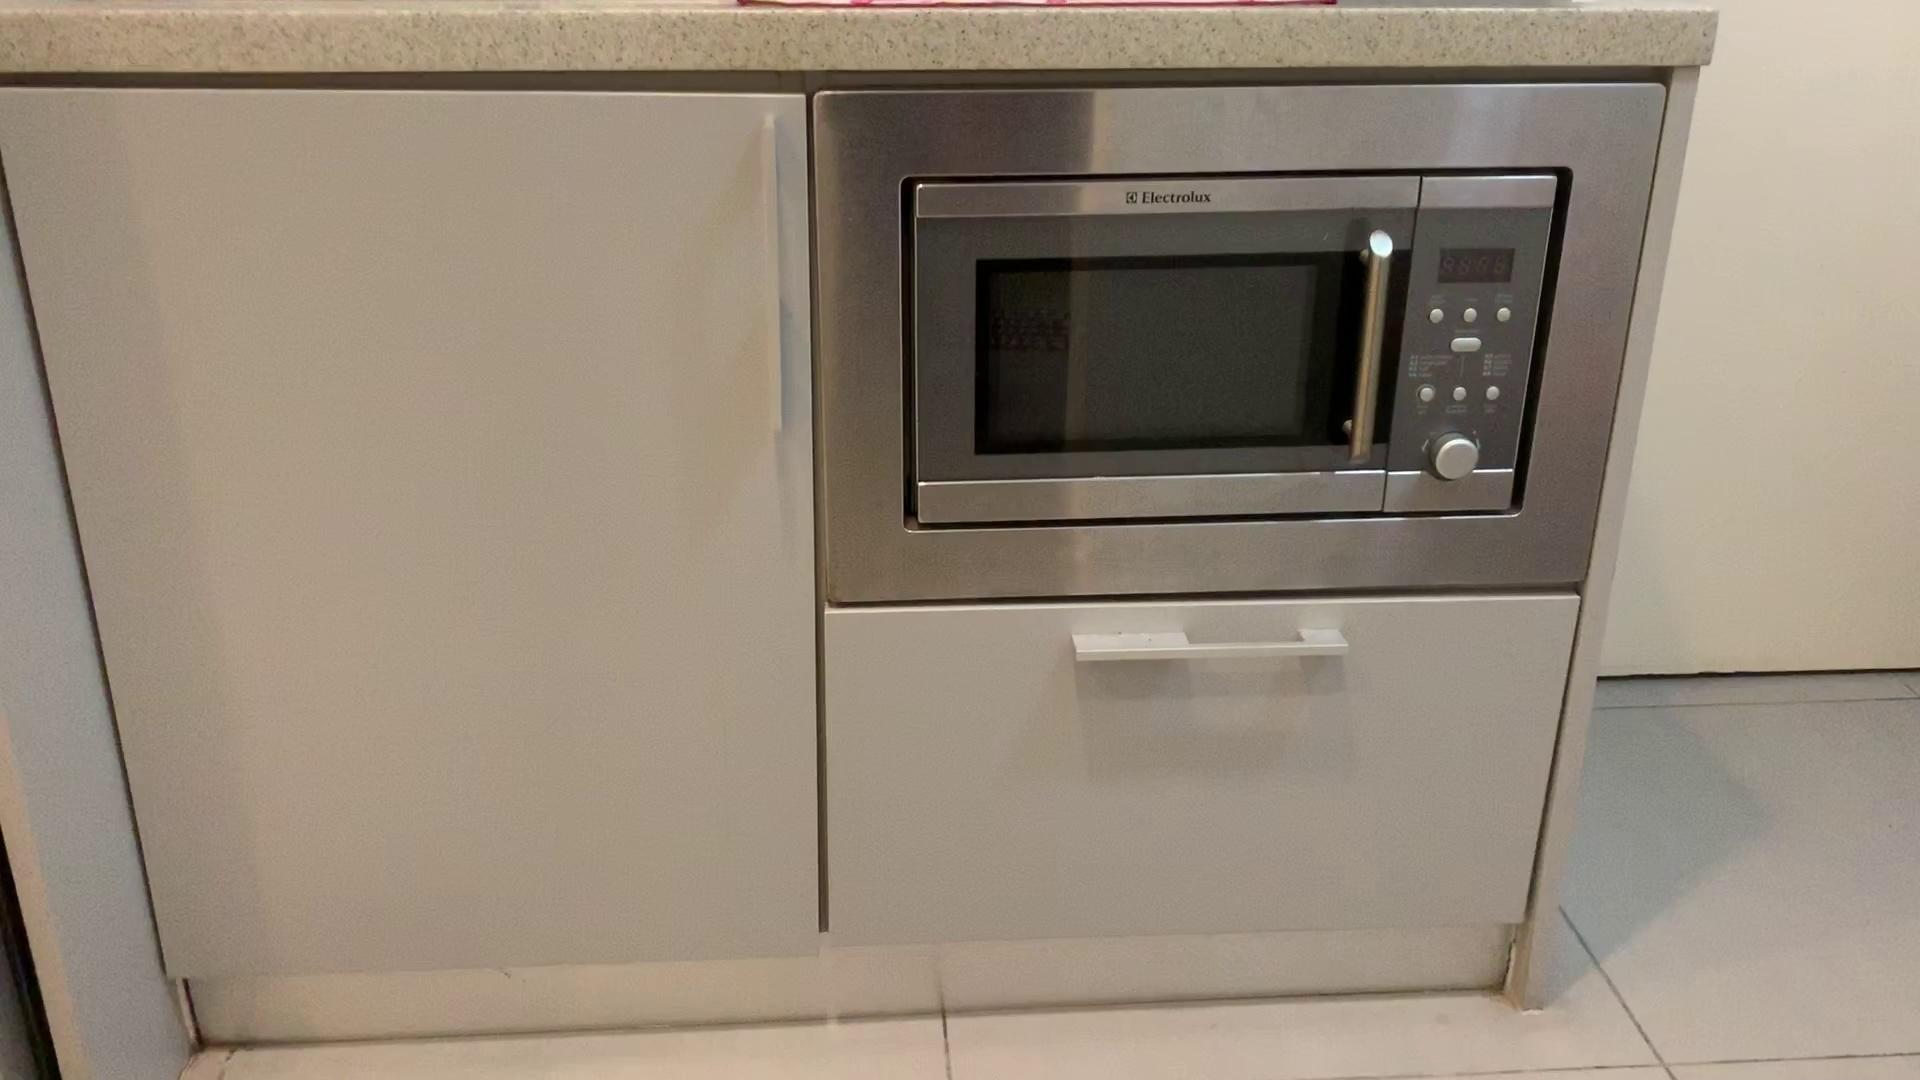cabinet_door: (80, 83, 816, 968), (822, 603, 1549, 934)
handle: (1331, 235, 1402, 472), (752, 94, 796, 448), (1055, 620, 1366, 670)
